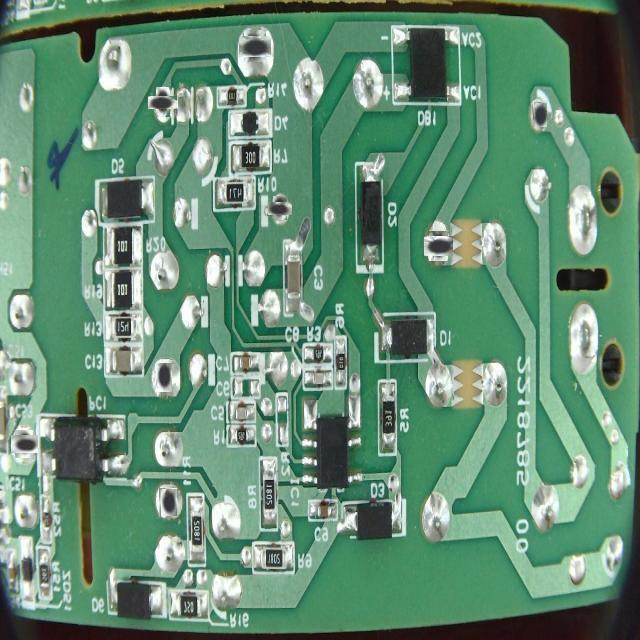damged: (242, 33, 269, 59), (426, 234, 450, 258), (12, 433, 36, 456), (160, 488, 178, 516), (152, 92, 174, 114), (156, 364, 172, 394), (270, 199, 290, 218), (533, 101, 547, 128)
